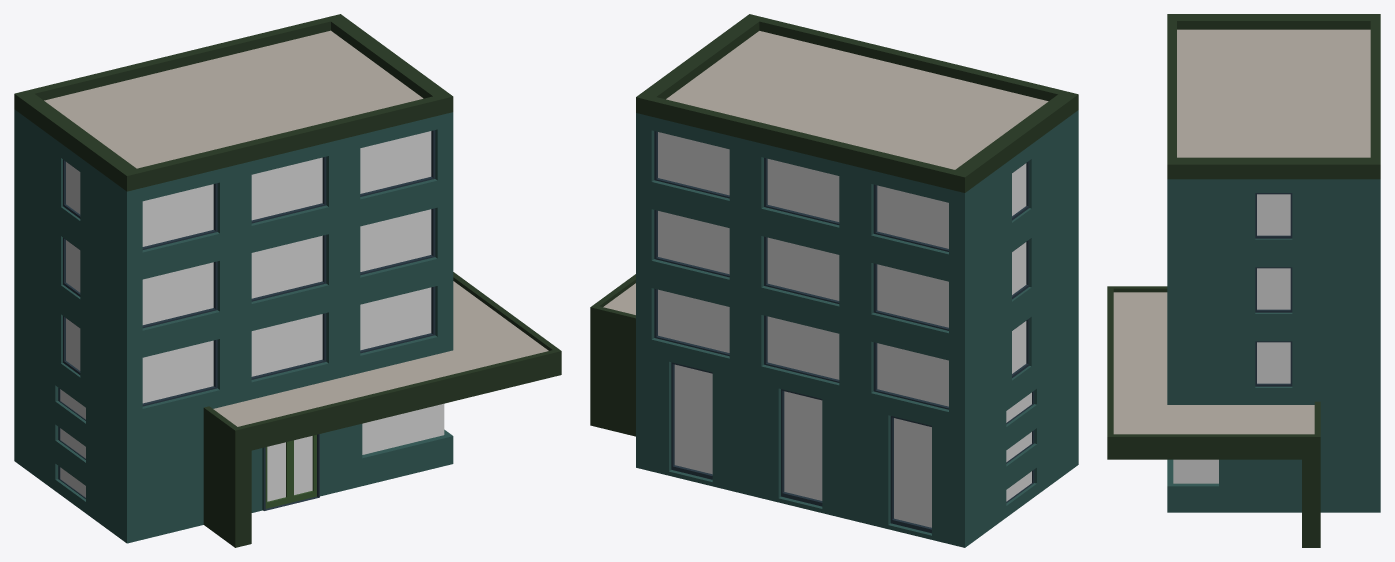
File: SM_Hotel_01_B.gltf
3 views of the same model, side by side, from view 1: azimuth 30°, elevation 25°; view 2: azimuth 150°, elevation 25°; view 3: azimuth 270°, elevation 25° (orthographic). The views are drawn at different scales.
Visible parts, largest first — view 1: SM_Hotel_01_B; view 2: SM_Hotel_01_B; view 3: SM_Hotel_01_B.
Boxes of the visible parts, <box> form: SM_Hotel_01_B: <box>14,14,561,547</box>; SM_Hotel_01_B: <box>590,14,1078,547</box>; SM_Hotel_01_B: <box>1107,14,1380,547</box>.
Size of the model in its own units: 4.57 by 3.98 by 2.83.
